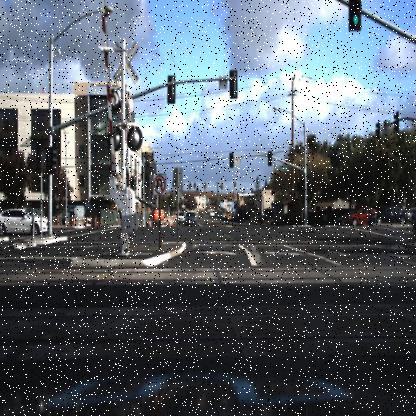car: (0, 207, 47, 235), (372, 206, 409, 224), (349, 208, 378, 228), (335, 209, 354, 228), (184, 210, 196, 225), (208, 204, 219, 220), (176, 208, 184, 228)
trafficLight: (347, 0, 363, 40)
trafficLight-Green: (349, 0, 360, 31)
trafficLight-Red: (266, 146, 274, 168), (227, 148, 234, 171), (299, 175, 306, 198)
